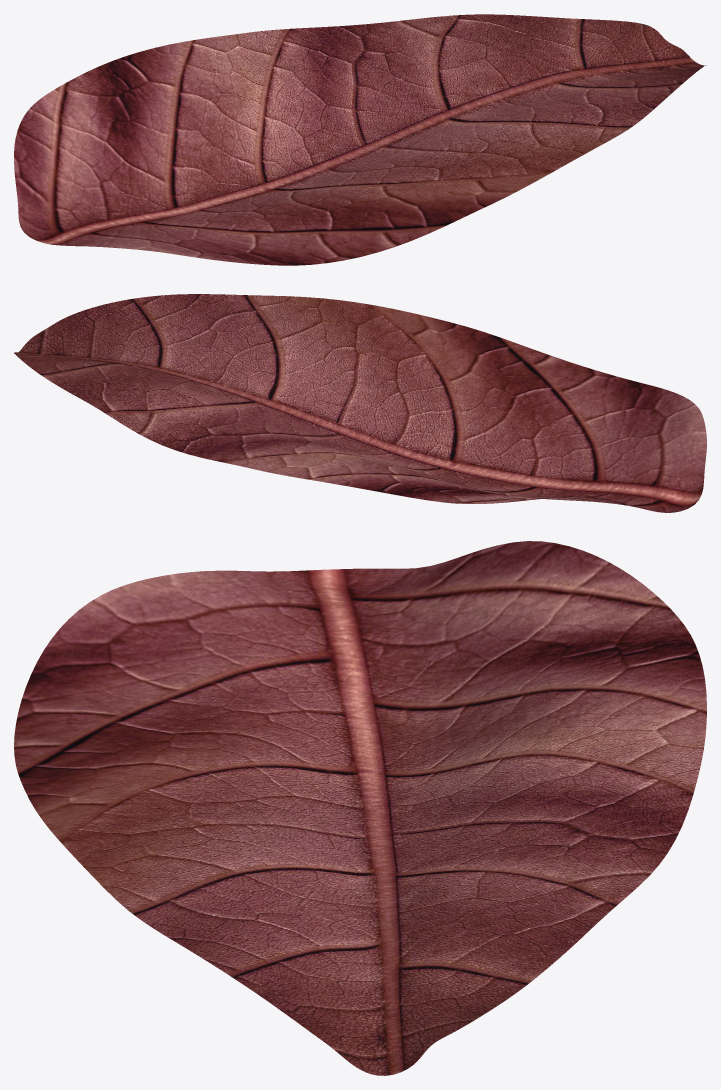
File: leaf_c7.2.glb
3 views of the same model, one above another, from view 1: azimuth 30°, elevation 25°; view 2: azimuth 150°, elevation 25°; view 3: azimuth 270°, elevation 25° (orthographic). The views are drawn at different scales.
Parts seen in each view (by area): view 1: Circle.019; view 2: Circle.019; view 3: Circle.019.
Boxes of the visible parts, x1,y1,x2,y2 form: Circle.019: [14, 14, 706, 265]; Circle.019: [14, 294, 706, 512]; Circle.019: [14, 541, 706, 1075].
Size of the model in its own units: 0.9999 by 0.086 by 0.5781.
1 material, 1 textured.
